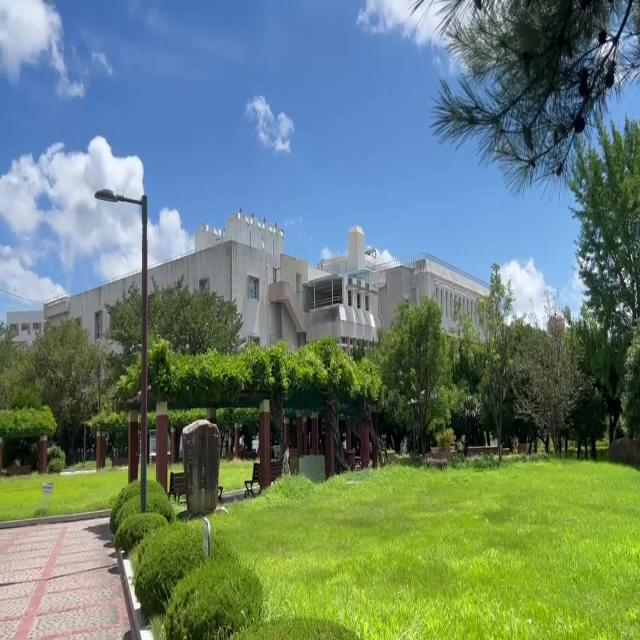building: (218, 210, 414, 349)
